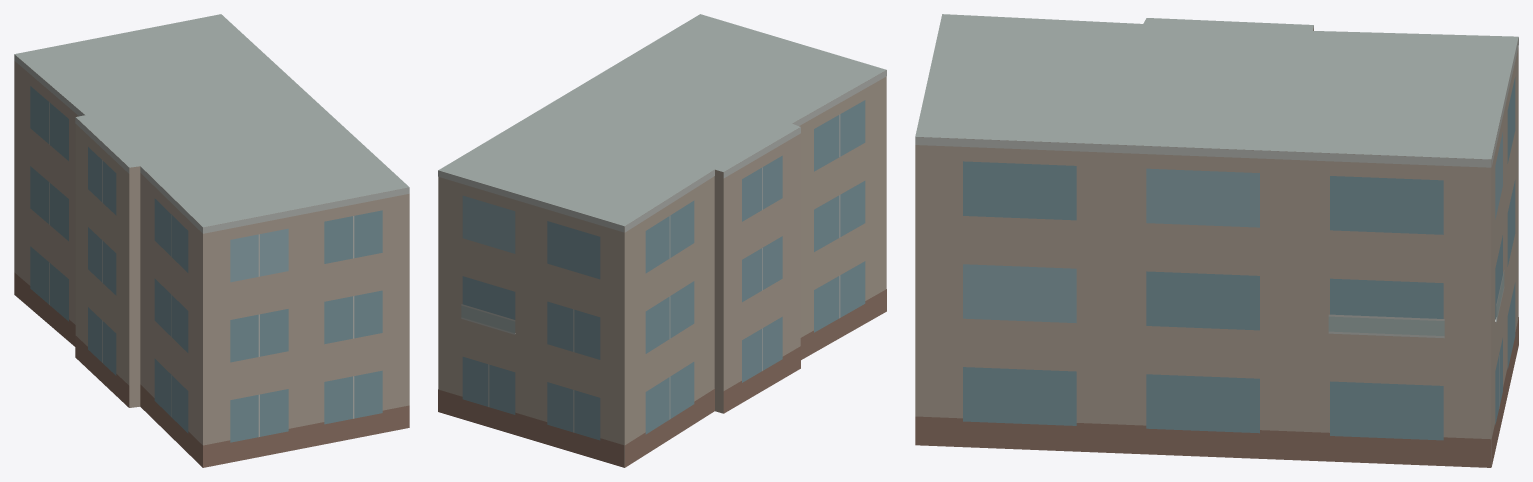
The model's file is survey-upis-33045041.glb.
3 renders of one model, left to right at view 1: azimuth 30°, elevation 25°; view 2: azimuth 150°, elevation 25°; view 3: azimuth 270°, elevation 25°, orthographic. The views are drawn at different scales.
Visible parts, largest first — view 1: survey-upis-33045041.tmp; view 2: survey-upis-33045041.tmp; view 3: survey-upis-33045041.tmp.
Boxes of the visible parts, x1,y1,x2,y2 form: survey-upis-33045041.tmp: [14, 14, 409, 467]; survey-upis-33045041.tmp: [438, 14, 886, 467]; survey-upis-33045041.tmp: [915, 14, 1518, 467].
Size of the model in its own units: 9.27 by 9.15 by 16.24.
